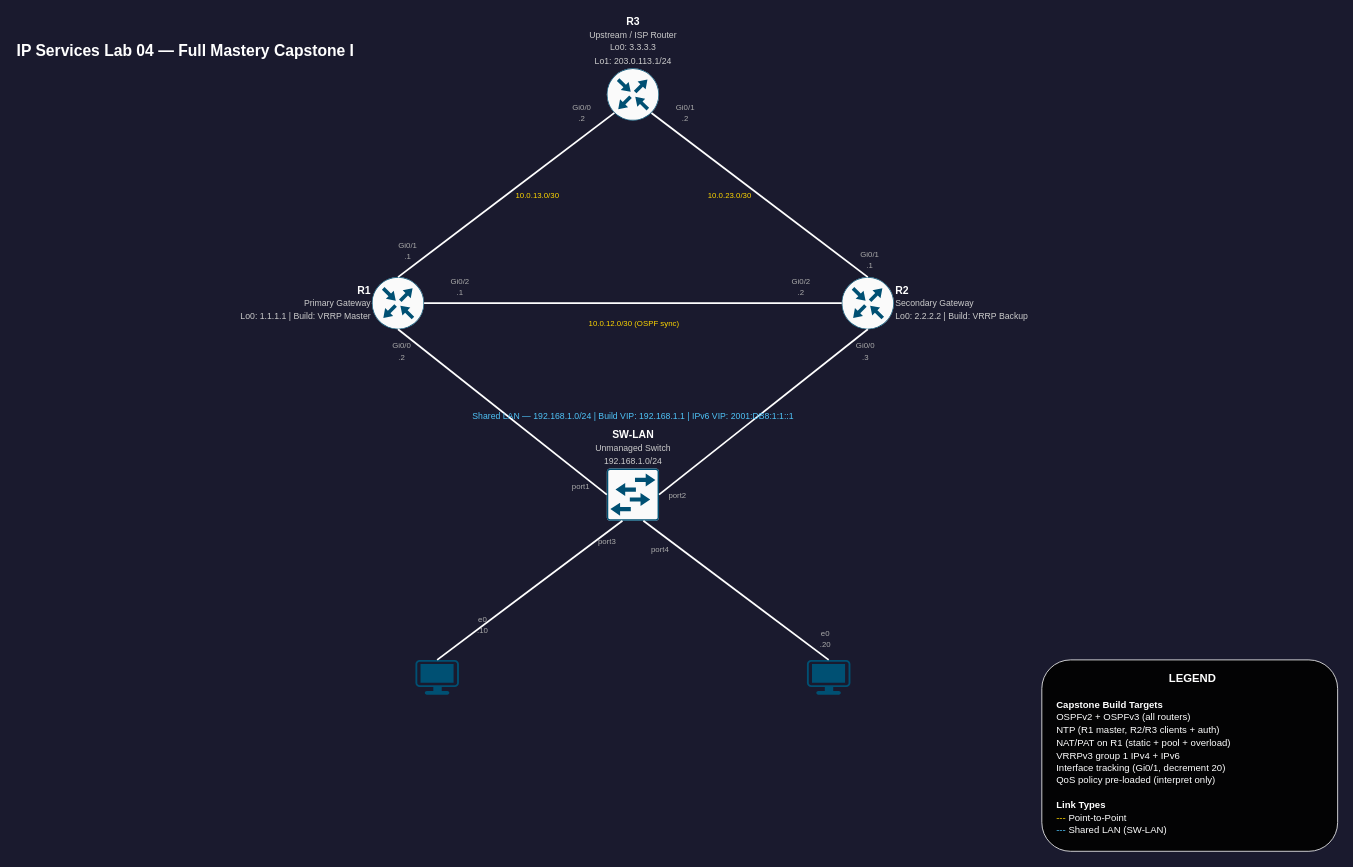
Some shapes in this 1353 by 867 pixel diagram are drawn without their labels. Each missing label, with the centre of its shape:
PC1 VPC 192.168.1.10: the point at 436,676
PC2 VPC 192.168.1.20: the point at 828,676
